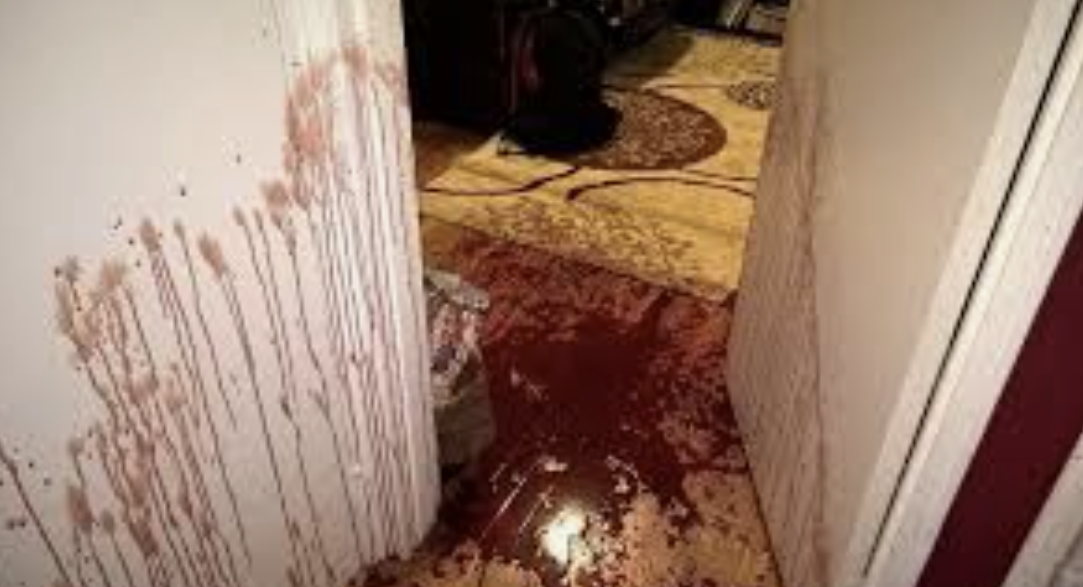blood_13.png: (20, 50, 843, 587)
